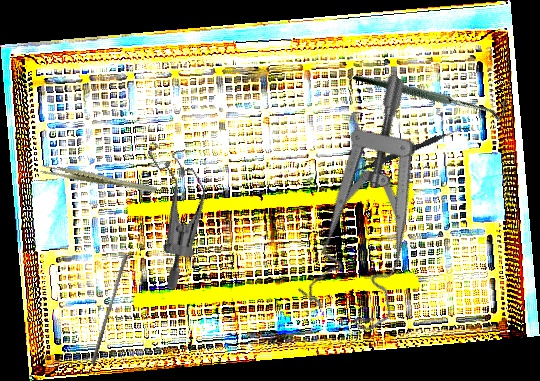Hook Surgical: (352, 13, 513, 171)
Pusher: (90, 252, 129, 367)
Spatula Surgical: (346, 121, 470, 180)
Speculum: (255, 71, 506, 344), (103, 129, 242, 292)
Tissue Forceps: (39, 145, 158, 214)
